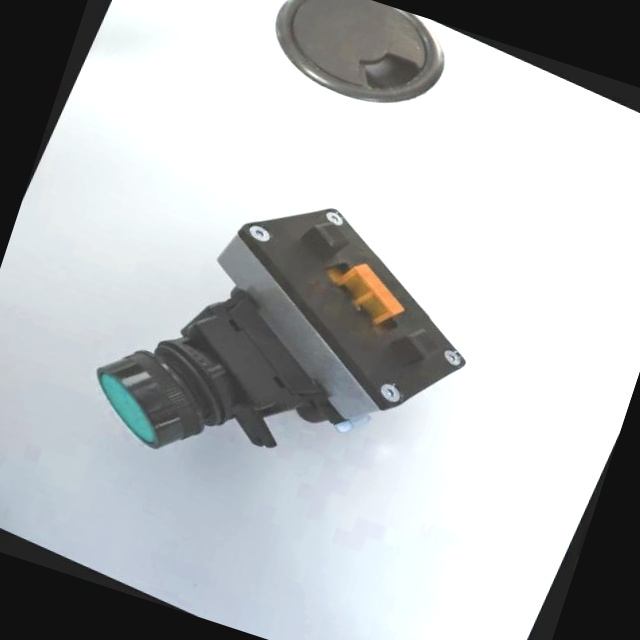push button: (65, 135, 514, 561)
